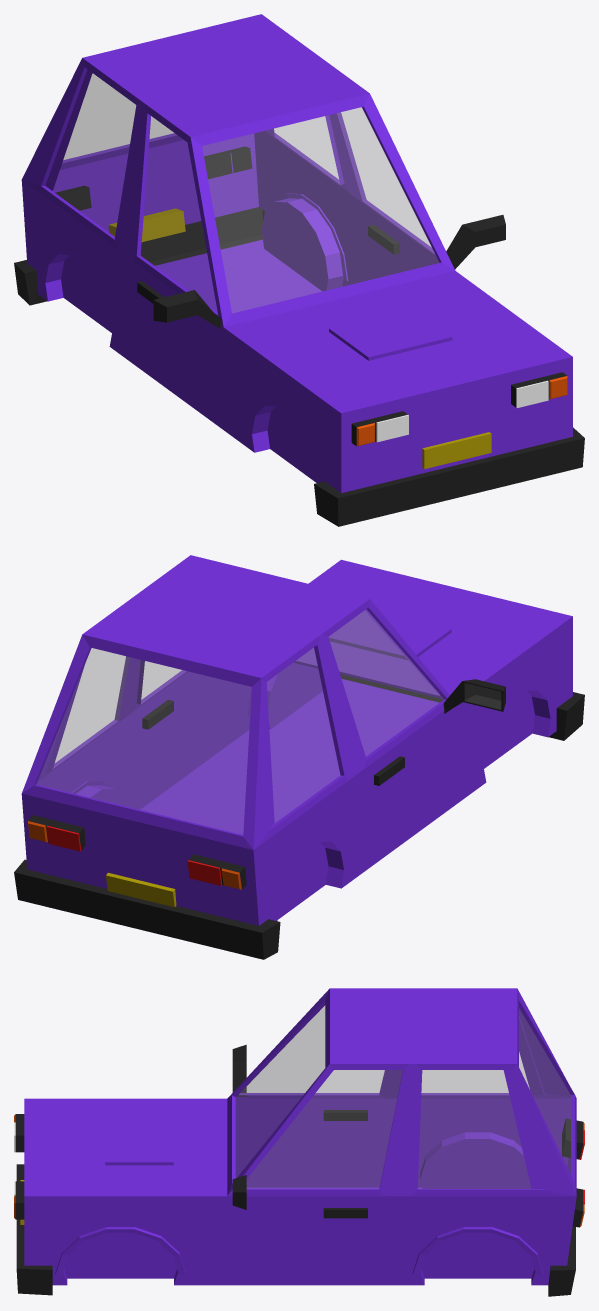
File: Car.gltf
3 renders of one model, top to bottom at view 1: azimuth 30°, elevation 25°; view 2: azimuth 150°, elevation 25°; view 3: azimuth 270°, elevation 25°, orthographic. The views are drawn at different scales.
Visible parts, largest first — view 1: Car Body; view 2: Car Body; view 3: Car Body, Back, Front.
Part boxes in pixels (x1,y1,x2,y2): Car Body: [14, 14, 584, 526]; Car Body: [14, 555, 584, 959]; Car Body: [14, 988, 584, 1296]; Back: [412, 1227, 543, 1275]; Front: [55, 1227, 185, 1275].
Size of the model in its own units: 6.04 by 4.16 by 9.87.
